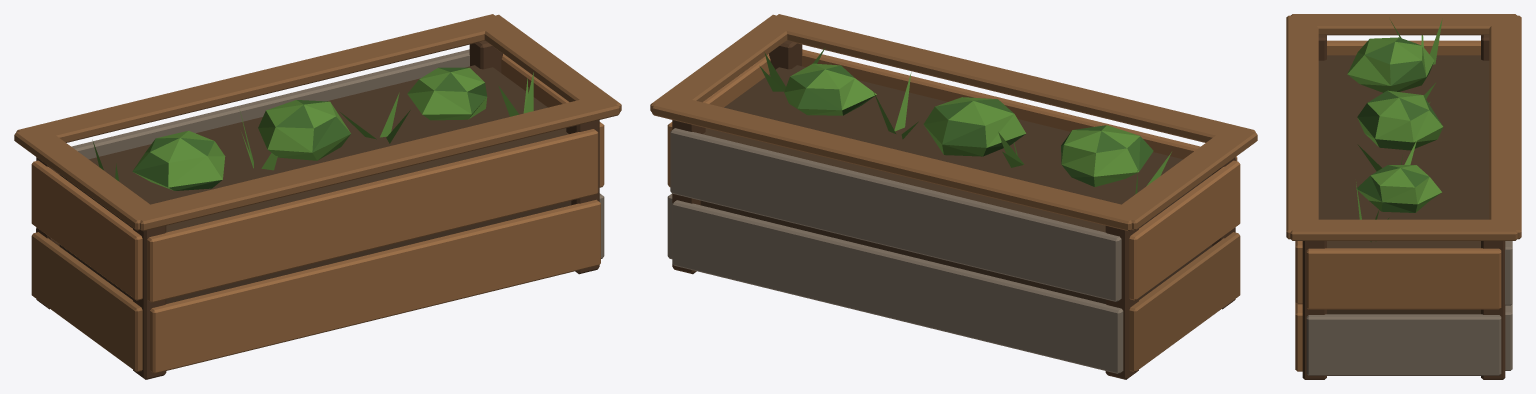
Rendered from PlanterBox.fbx.
3 views of the same model, side by side, from view 1: azimuth 30°, elevation 25°; view 2: azimuth 150°, elevation 25°; view 3: azimuth 270°, elevation 25° (orthographic). The views are drawn at different scales.
Visible parts, largest first — view 1: PlanterBox; view 2: PlanterBox; view 3: PlanterBox.
Part boxes in pixels (<box>): PlanterBox: <box>14,14,621,379</box>; PlanterBox: <box>650,14,1257,379</box>; PlanterBox: <box>1286,14,1521,379</box>.
Size of the model in its own units: 1.28 by 0.4705 by 0.58.
Materials: 1 (1 with a texture image).
